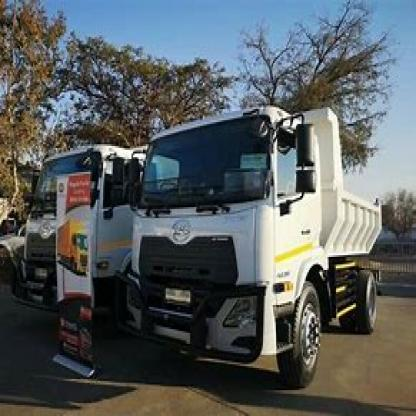dump_truck: (132, 98, 394, 386), (13, 122, 137, 333)
